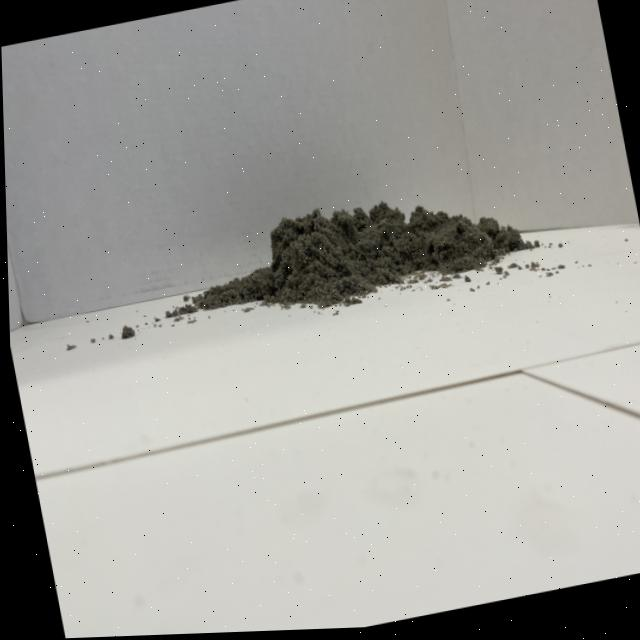sand: (164, 157, 540, 340)
